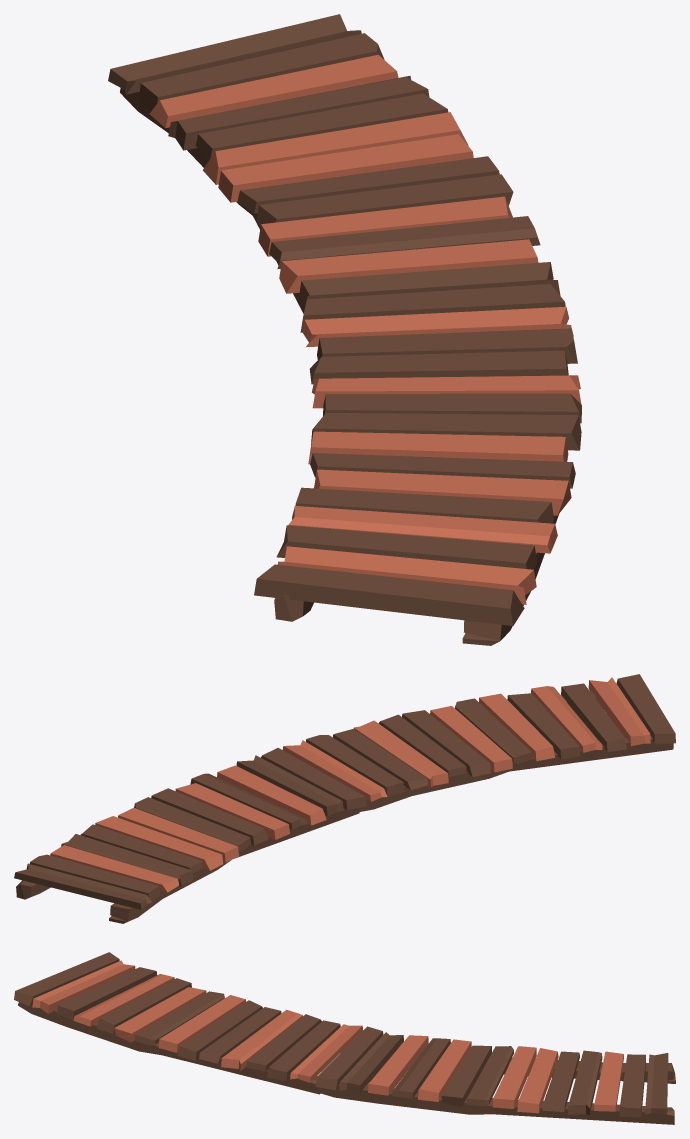
Rendered from Bridge_Curve_02.fbx.
3 views of the same model, one above another, from view 1: azimuth 30°, elevation 25°; view 2: azimuth 150°, elevation 25°; view 3: azimuth 270°, elevation 25° (orthographic). The views are drawn at different scales.
Visible parts, largest first — view 1: SM_Env_Train_Track_Bridge_Top_Curve_01; view 2: SM_Env_Train_Track_Bridge_Top_Curve_01; view 3: SM_Env_Train_Track_Bridge_Top_Curve_01.
Boxes of the visible parts, x1,y1,x2,y2 form: SM_Env_Train_Track_Bridge_Top_Curve_01: (108, 14, 581, 645); SM_Env_Train_Track_Bridge_Top_Curve_01: (14, 674, 675, 923); SM_Env_Train_Track_Bridge_Top_Curve_01: (14, 952, 675, 1124).
Bounding box in the file's own units: 1088 × 61.83 × 1934.
